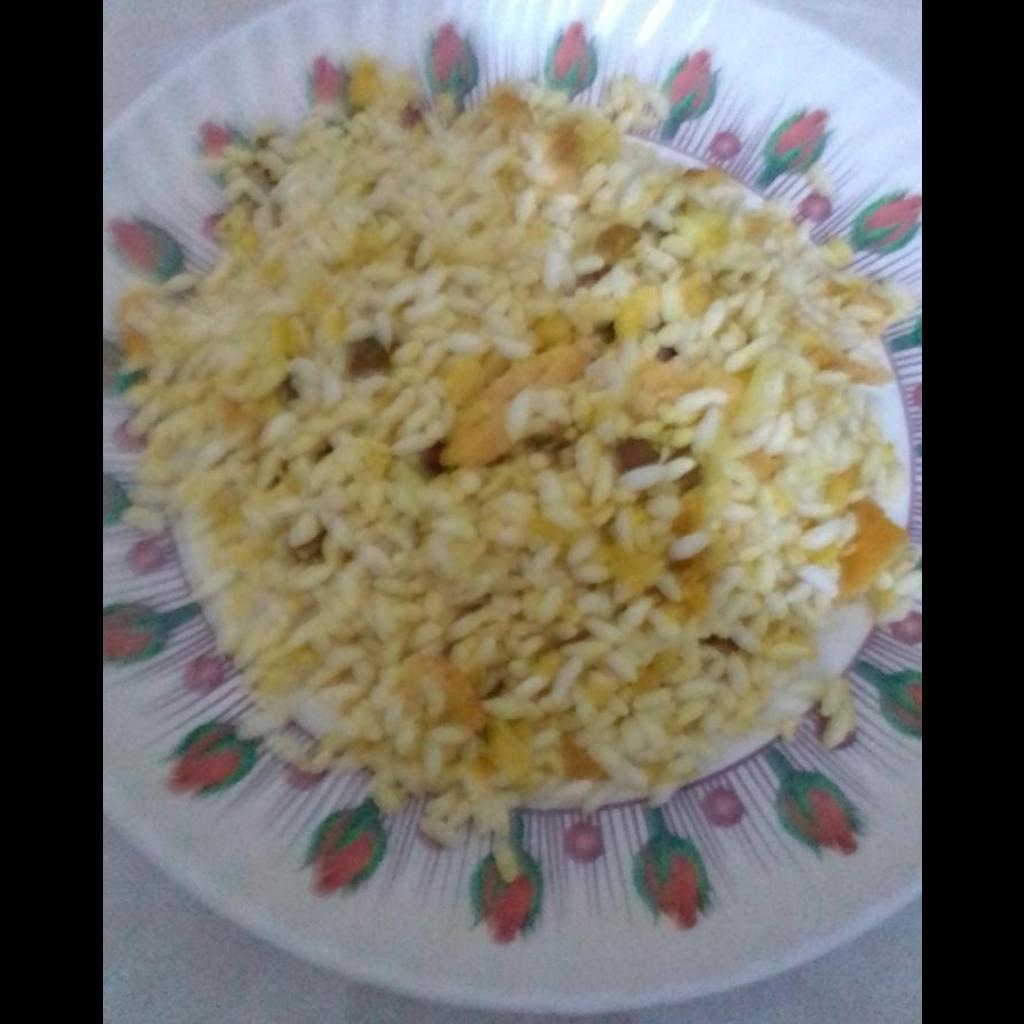puffed-rice: (120, 94, 908, 813)
